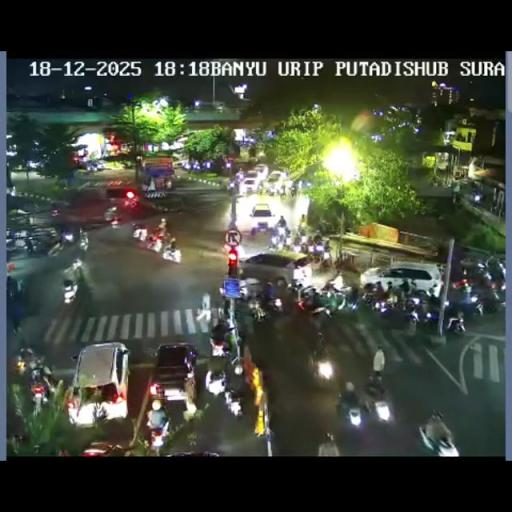Car: (66, 342, 132, 426), (6, 223, 80, 288), (52, 185, 149, 228), (148, 342, 198, 412), (362, 261, 442, 296), (240, 250, 310, 288), (248, 203, 276, 231), (141, 172, 174, 195), (80, 441, 121, 456), (151, 194, 185, 212), (240, 177, 262, 195), (50, 200, 70, 219), (253, 164, 269, 178), (268, 170, 286, 182), (172, 159, 190, 169)
Motorcycle: (420, 421, 458, 455), (364, 382, 394, 424), (28, 367, 53, 411), (310, 336, 334, 380), (336, 394, 364, 427), (474, 286, 501, 314), (209, 323, 232, 355), (222, 384, 244, 417), (235, 276, 262, 302), (404, 295, 422, 332), (423, 298, 442, 330), (246, 297, 269, 323), (337, 287, 360, 313), (205, 368, 227, 395), (444, 310, 466, 336), (148, 422, 168, 450), (449, 286, 476, 306), (318, 432, 340, 455), (62, 256, 84, 278), (270, 223, 290, 247), (486, 256, 504, 282), (196, 292, 211, 322), (162, 241, 182, 263), (8, 304, 22, 334), (286, 279, 304, 302), (264, 296, 284, 316), (6, 433, 25, 454), (62, 281, 78, 304), (146, 233, 164, 252), (262, 280, 277, 302), (14, 352, 28, 375), (308, 304, 330, 318), (131, 222, 147, 241), (47, 239, 64, 256), (306, 246, 322, 264), (6, 275, 18, 298), (329, 272, 344, 290), (230, 357, 244, 376), (320, 242, 332, 264), (124, 190, 138, 208), (60, 227, 75, 243), (108, 212, 122, 228), (223, 295, 232, 318), (78, 234, 89, 252), (430, 409, 444, 422), (25, 237, 35, 254), (472, 188, 482, 205), (453, 186, 462, 204), (400, 278, 410, 294), (298, 240, 309, 254), (84, 161, 98, 172), (227, 218, 237, 232), (297, 224, 306, 238), (266, 185, 276, 197), (318, 219, 326, 234), (227, 180, 236, 193), (313, 233, 322, 246), (277, 215, 286, 228), (290, 184, 298, 198), (158, 218, 166, 232), (278, 184, 286, 197), (166, 178, 172, 190)
